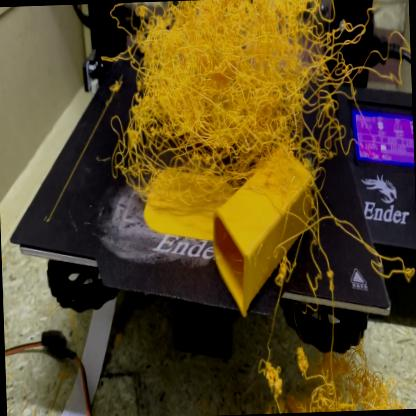fail: (109, 1, 345, 192), (251, 345, 408, 416)
